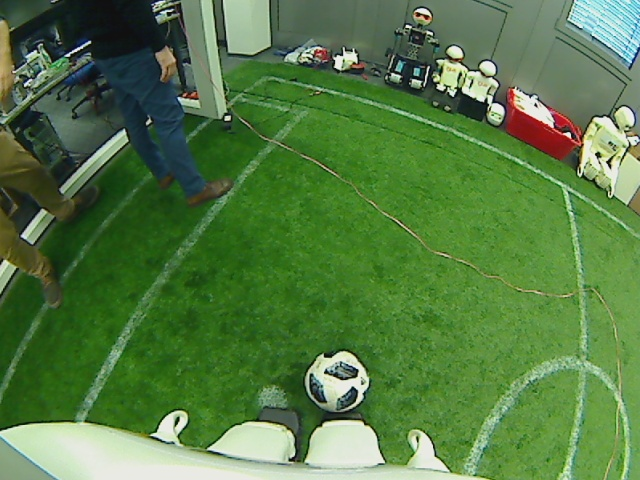ball: (303, 346, 372, 415)
